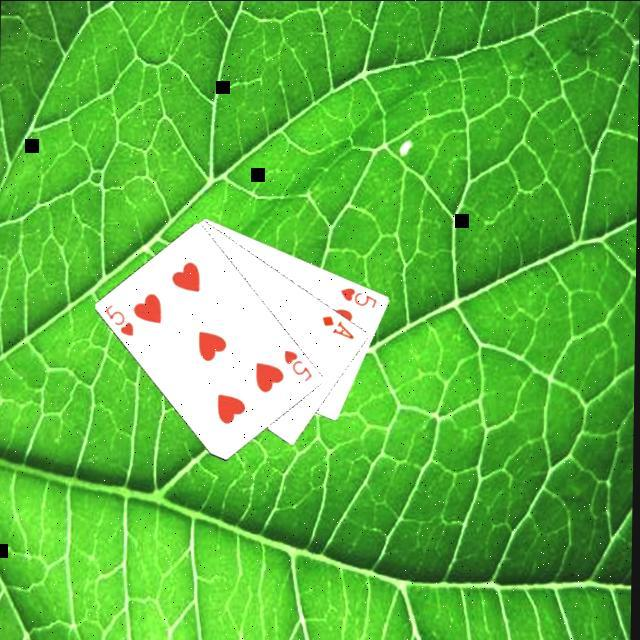5H: (104, 302, 140, 340), (283, 348, 317, 386), (339, 284, 382, 312)
AD: (320, 312, 360, 343)
